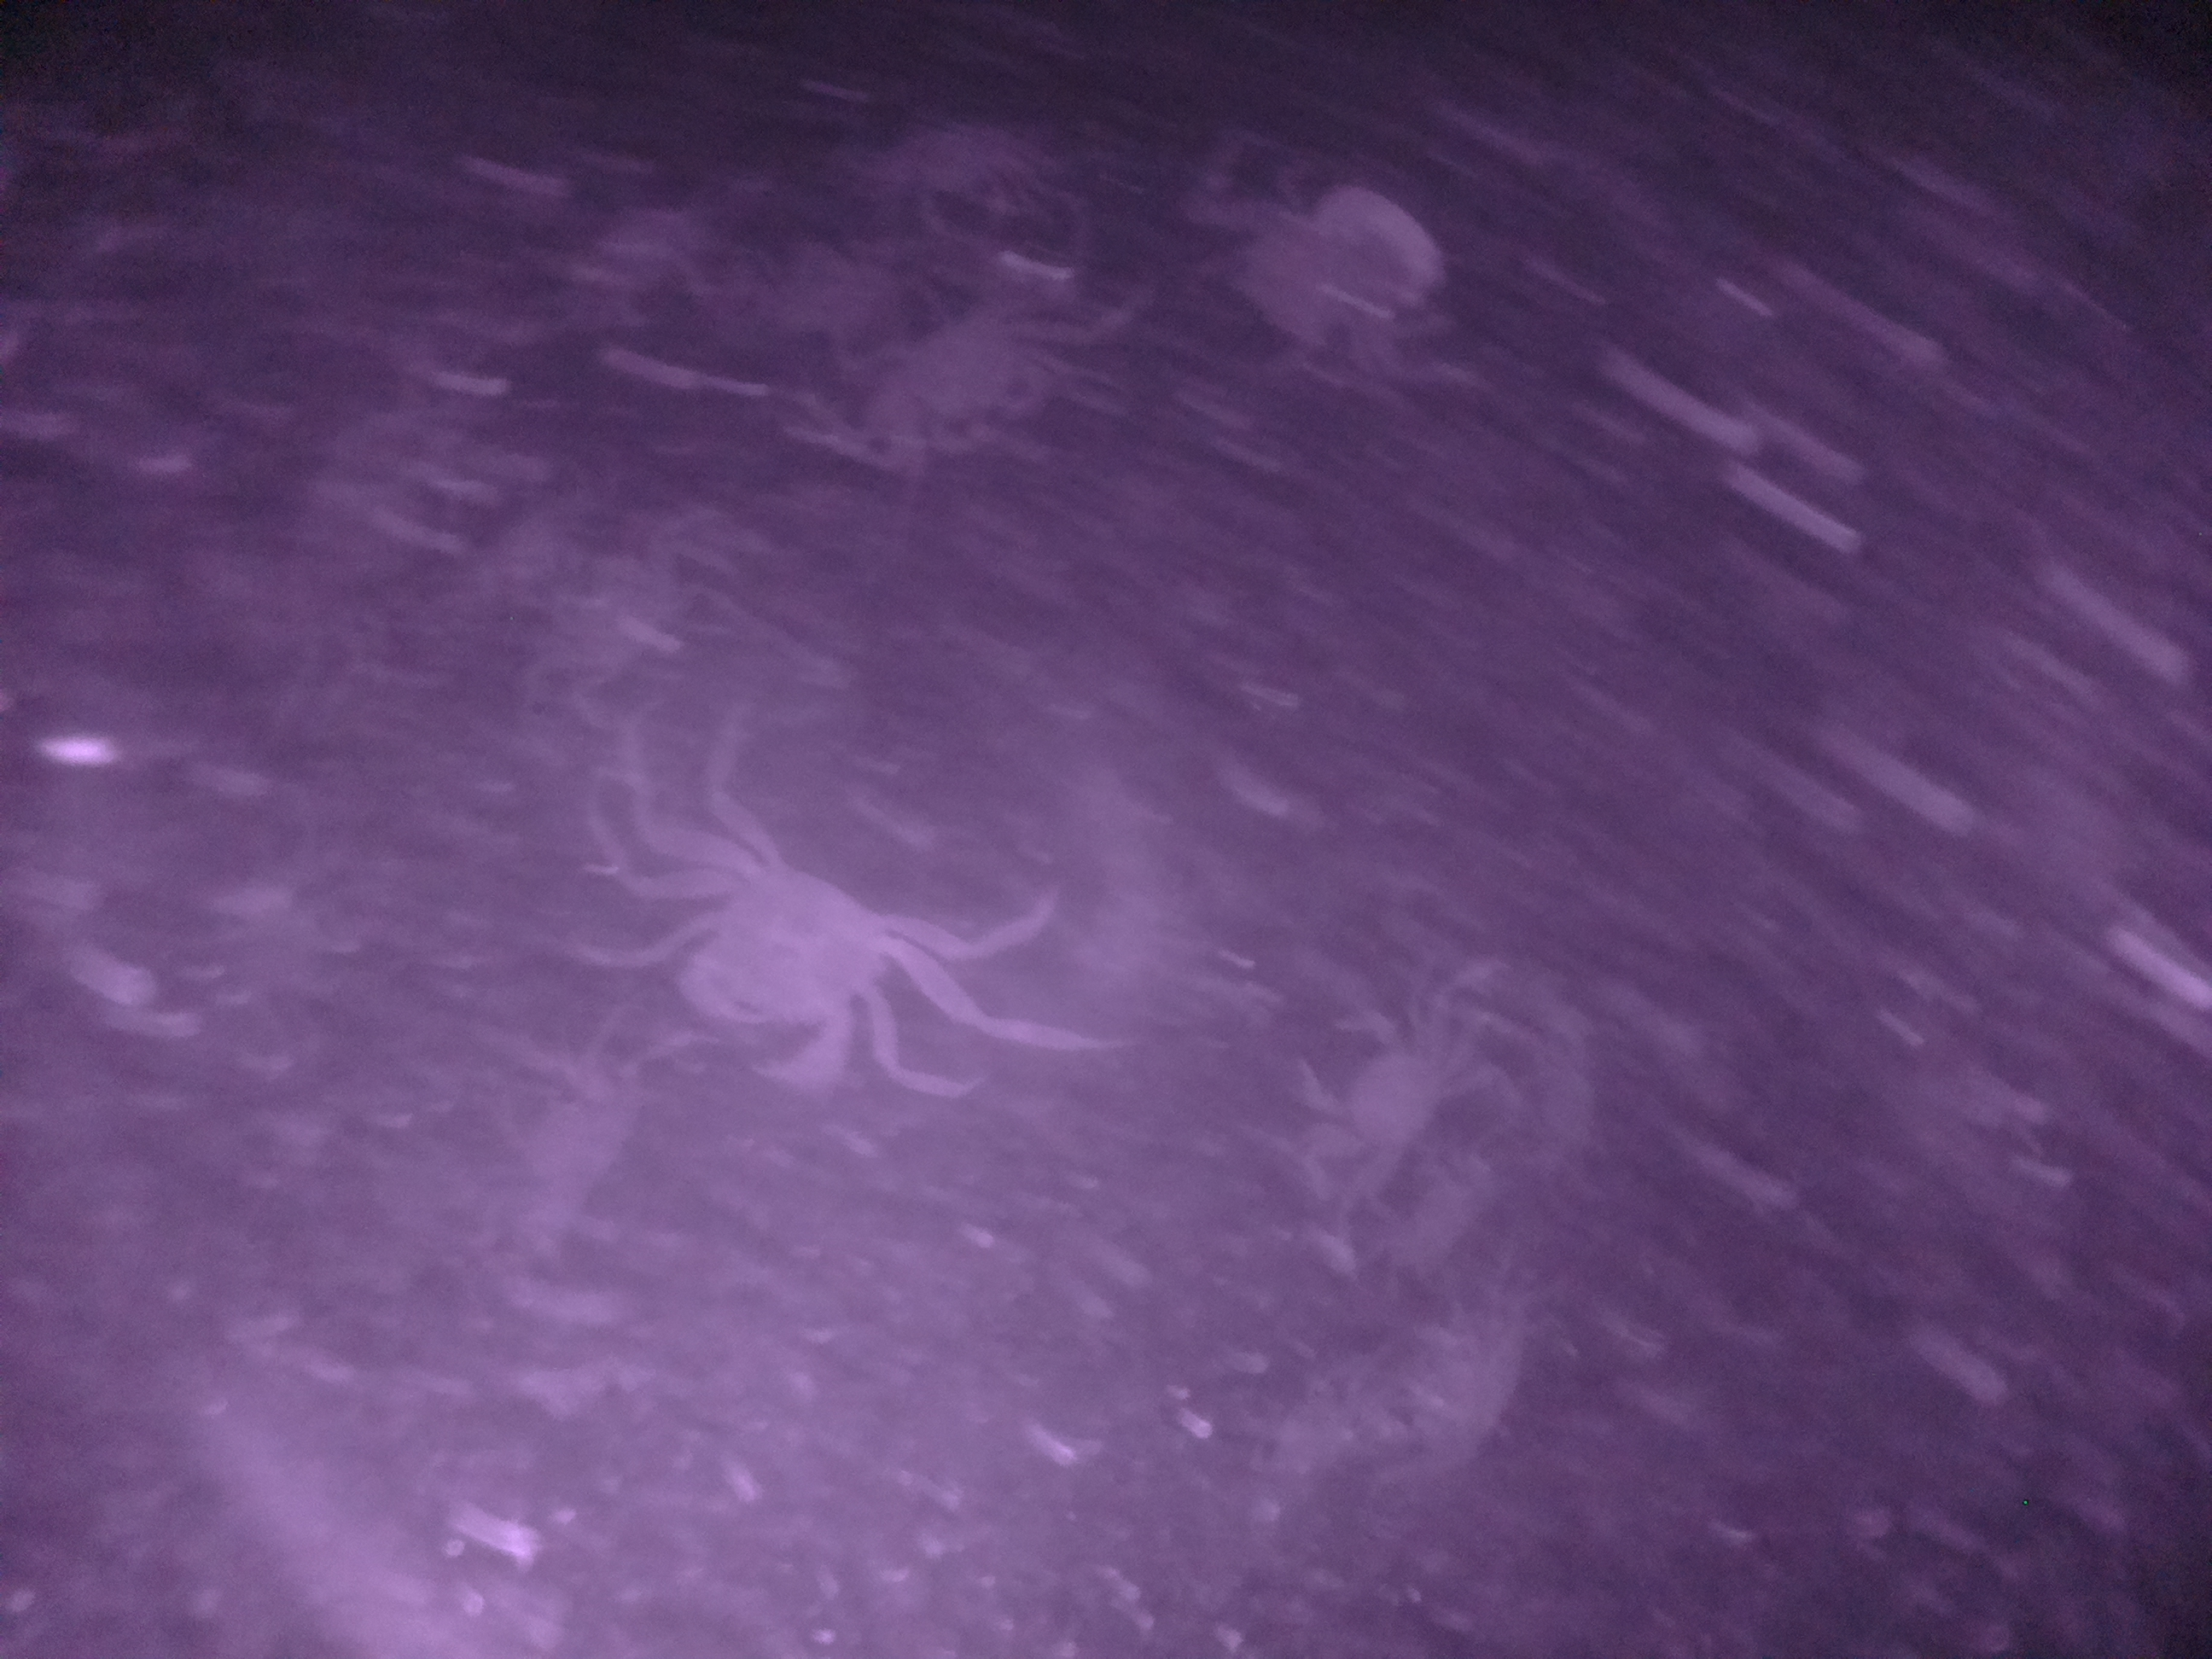Crab: (1280, 988, 1479, 1204)
